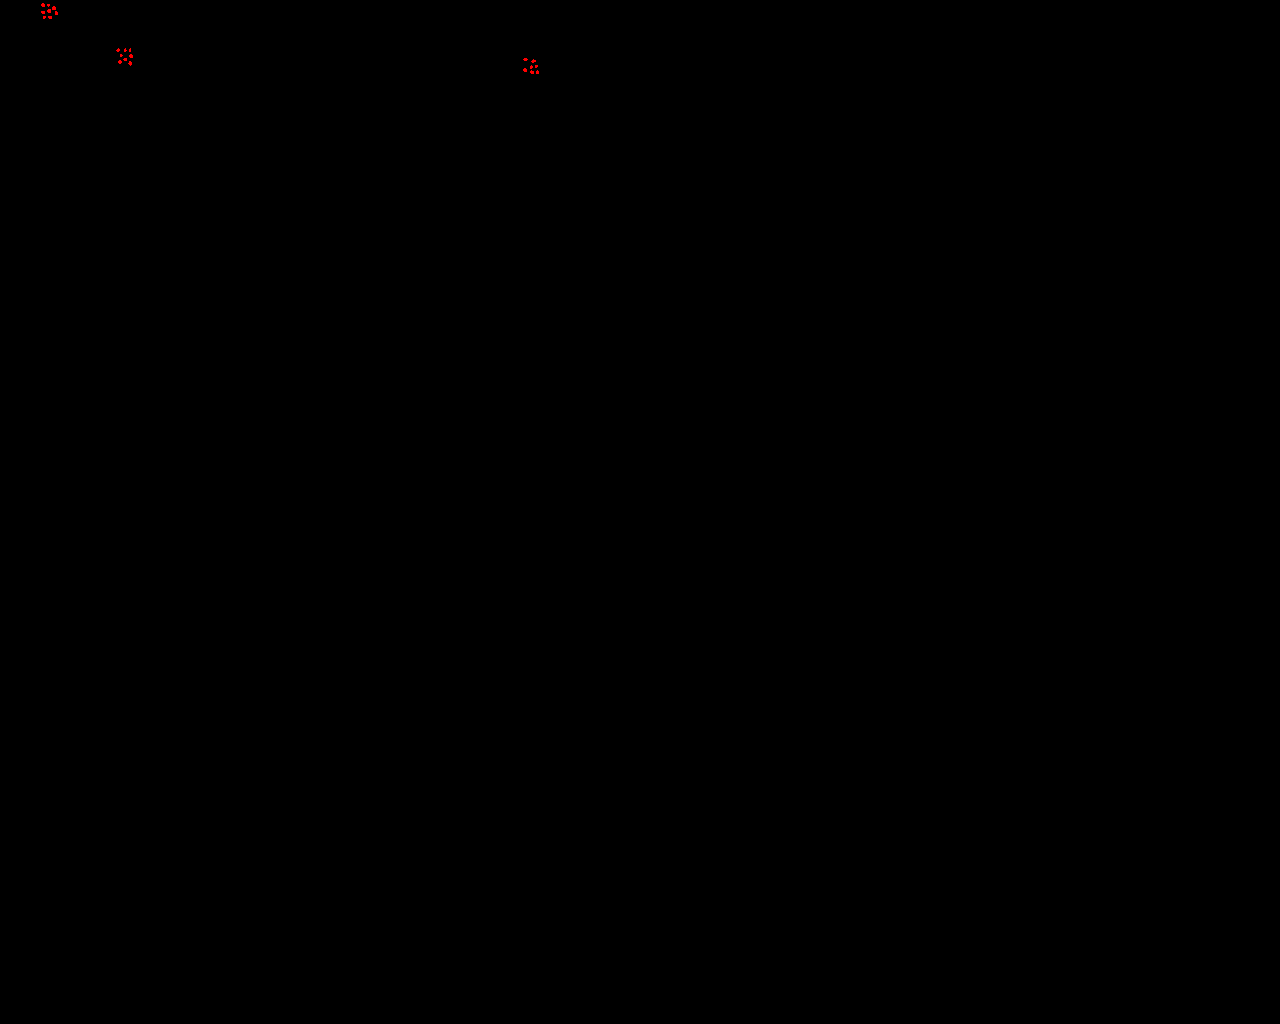Target: (531, 59, 536, 63), (127, 61, 132, 66), (41, 3, 45, 7), (52, 6, 56, 10), (116, 48, 120, 52), (129, 54, 133, 59), (118, 60, 122, 64), (530, 70, 534, 74), (47, 9, 51, 13), (48, 16, 52, 19), (124, 48, 127, 52), (530, 65, 533, 69), (523, 68, 527, 72), (536, 70, 539, 74), (47, 4, 50, 7), (55, 11, 59, 15), (43, 16, 46, 19), (120, 54, 123, 57), (535, 65, 538, 68), (41, 11, 45, 14), (129, 48, 131, 52), (123, 59, 127, 61), (523, 59, 528, 61)
